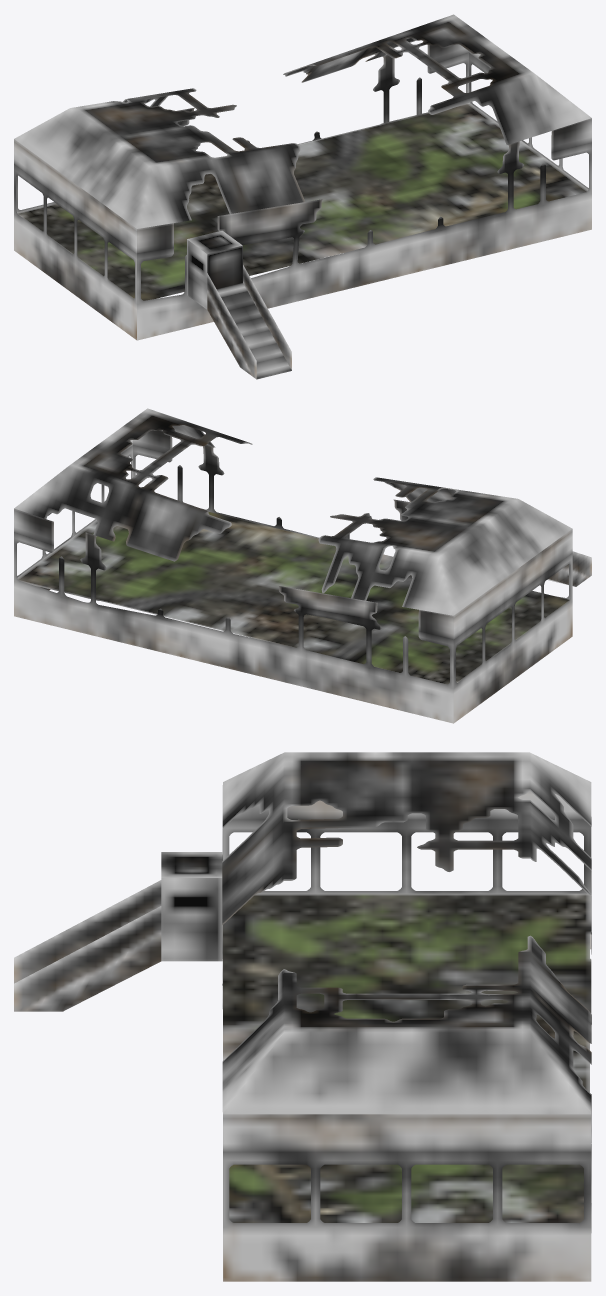
The model's file is terminal1_dam.glb.
The picture shows the model from 3 angles, top to bottom: view 1: azimuth 30°, elevation 25°; view 2: azimuth 150°, elevation 25°; view 3: azimuth 270°, elevation 25°; orthographic projection. The views are drawn at different scales.
Visible parts, largest first — view 1: outside, Stairs; view 2: outside, Stairs; view 3: outside, Stairs.
Part boxes in pixels (x1,y1,x2,y2): outside: [14, 14, 591, 340]; Stairs: [187, 230, 291, 379]; outside: [14, 408, 572, 723]; Stairs: [547, 551, 591, 586]; outside: [222, 752, 591, 1281]; Stairs: [14, 852, 222, 1011].
Bounding box in the file's own units: 25.6 × 8 × 18.82.
1 material, 1 textured.
